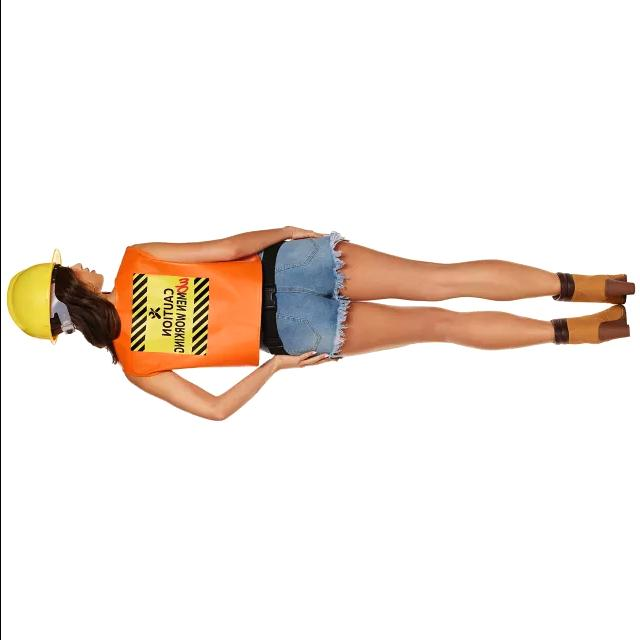Boots: (542, 259, 640, 354)
Hard Hat: (1, 243, 70, 347)
Reflective Vest: (107, 244, 263, 378)
